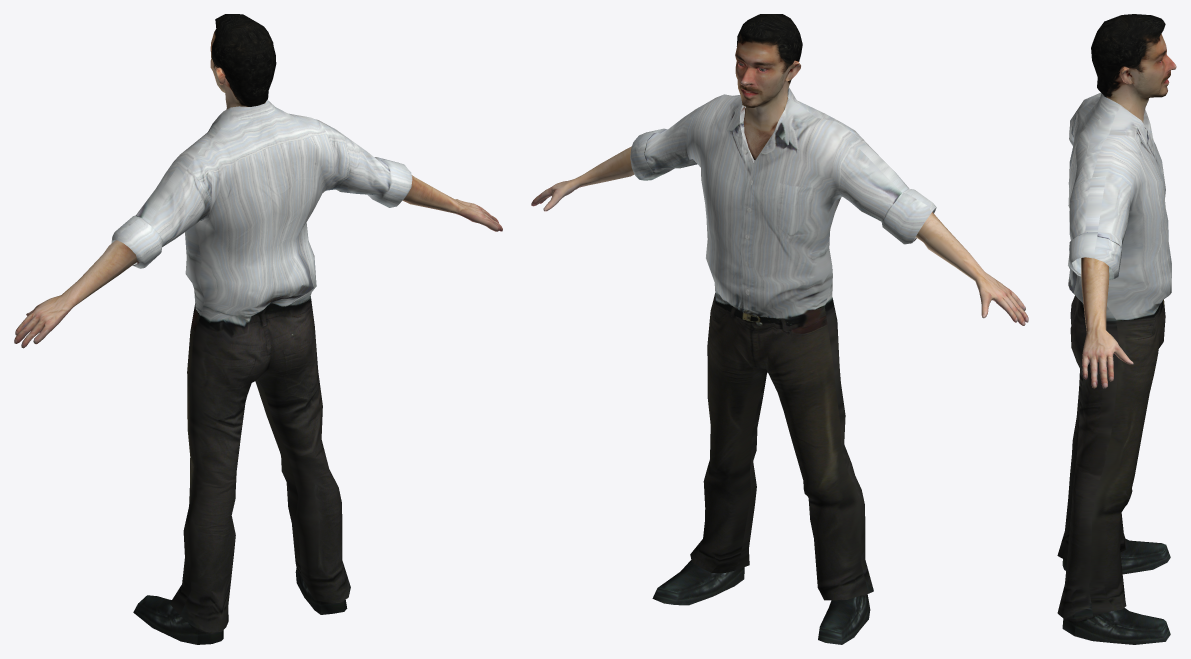
File: CMan0011-Tp.obj
3 renders of one model, left to right at view 1: azimuth 30°, elevation 25°; view 2: azimuth 150°, elevation 25°; view 3: azimuth 270°, elevation 25°, orthographic. The views are drawn at different scales.
Visible parts, largest first — view 1: cman0011_tp_Imported_OBJ_Object; view 2: cman0011_tp_Imported_OBJ_Object; view 3: cman0011_tp_Imported_OBJ_Object.
Boxes of the visible parts, box(x1,y1,x2,y2) form: cman0011_tp_Imported_OBJ_Object: box(14, 14, 502, 644); cman0011_tp_Imported_OBJ_Object: box(531, 14, 1028, 644); cman0011_tp_Imported_OBJ_Object: box(1057, 14, 1176, 644).
Bounding box in the file's own units: 1.6 × 1.85 × 0.3423.
Materials: 1 (1 with a texture image).
